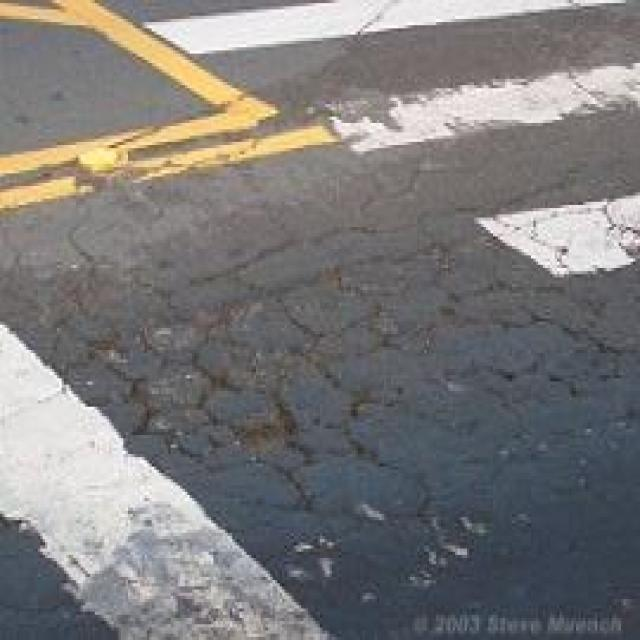Drain Hole: (106, 266, 586, 530)
